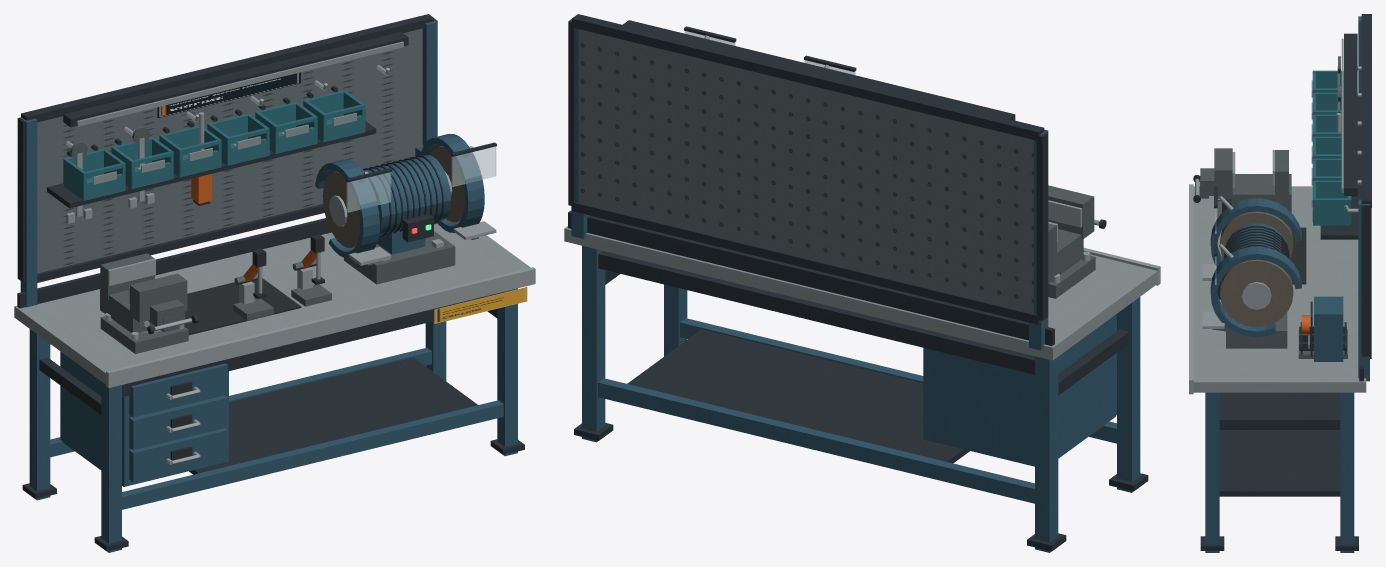
The model's file is PZ_Tool_Repair_Station.glb.
The picture shows the model from 3 angles, left to right: view 1: azimuth 30°, elevation 25°; view 2: azimuth 150°, elevation 25°; view 3: azimuth 270°, elevation 25°; orthographic projection. The views are drawn at different scales.
Visible parts, largest first — view 1: RENDER_Frame_Fixed_Pegboard_PerforatedBack_Pegboard, RENDER_Frame_Fixed_Worktop_BrushedSteel_AluminumTop, RENDER_Frame_Fixed_UnderBench_Shelf_CharcoalSteel, RENDER_Frame_Fixed_Worktop_FrontRolledEdge_ZincSteel, RENDER_Frame_Fixed_LowerStorageRail_F_PaintBlue, RENDER_Frame_Fixed_Pegboard_FaceBorderTop_CharcoalSteel, RENDER_Frame_Fixed_Worktop_RearToolLip_CharcoalSteel, RENDER_Frame_Fixed_RearOverhead_LEDStripHousing_CharcoalStee, RENDER_Grinder_Fixed_Grinder_Motor_CastCasing_PaintBlue, RENDER_Frame_Fixed_DrawerBank_LeftCabinetSide_PaintBlue, RENDER_Frame_Fixed_Leg_00_Tubular_PaintBlue, RENDER_Frame_Fixed_LongitudinalUnderTopRail_F_CharcoalSteel (+35 smaller); view 2: RENDER_Frame_Fixed_Pegboard_PerforatedBack_Pegboard, RENDER_Frame_Fixed_UnderBench_Shelf_CharcoalSteel, RENDER_Frame_Fixed_Worktop_BrushedSteel_AluminumTop, RENDER_Frame_Fixed_DrawerBank_BackSheet_PaintBlue, RENDER_Frame_Fixed_LowerStorageRail_R_PaintBlue, RENDER_Frame_Fixed_Worktop_RearToolLip_CharcoalSteel, RENDER_Frame_Fixed_LongitudinalUnderTopRail_R_CharcoalSteel, RENDER_Frame_Fixed_Pegboard_FaceBorderTop_CharcoalSteel, RENDER_Frame_Fixed_DrawerBank_LeftCabinetSide_PaintBlue, RENDER_Frame_Fixed_Pegboard_FaceBorderBottom_CharcoalSteel, RENDER_Frame_Fixed_Leg_01_Tubular_PaintBlue, RENDER_Frame_Fixed_Leg_11_Tubular_PaintBlue (+13 smaller); view 3: RENDER_Frame_Fixed_Worktop_BrushedSteel_AluminumTop, RENDER_Frame_Fixed_UnderBench_Shelf_CharcoalSteel, RENDER_Grinder_RightWheel_SPIN_X_PIVOT_AbrasiveStone_Waterti, RENDER_Frame_Fixed_Leg_10_Tubular_PaintBlue, RENDER_Frame_Fixed_Leg_11_Tubular_PaintBlue, RENDER_Grinder_Fixed_Grinder_Right_OuterWheelGuard_PaintBlue, RENDER_Frame_Fixed_RearOverhead_LEDStripHousing_CharcoalStee, RENDER_Frame_Fixed_Pegboard_FaceBorderTop_CharcoalSteel, RENDER_Frame_Fixed_Bench_Electrical_ISO_Cabinet_PaintBlue, RENDER_Frame_Fixed_CrossBrace_R_CharcoalSteel, RENDER_Frame_Fixed_Pegboard_TrimSide_1.055_CharcoalSteel, RENDER_Grinder_Fixed_Grinder_Left_OuterWheelGuard_PaintBlue (+26 smaller).
Boxes of the visible parts, x1,y1,x2,y2 form: RENDER_Frame_Fixed_Pegboard_PerforatedBack_Pegboard: (37,28,422,273); RENDER_Frame_Fixed_Worktop_BrushedSteel_AluminumTop: (14,223,530,384); RENDER_Frame_Fixed_UnderBench_Shelf_CharcoalSteel: (189,357,477,474); RENDER_Frame_Fixed_Worktop_FrontRolledEdge_ZincSteel: (106,267,535,388); RENDER_Frame_Fixed_LowerStorageRail_F_PaintBlue: (122,400,503,509); RENDER_Frame_Fixed_Pegboard_FaceBorderTop_CharcoalSteel: (21,14,433,122); RENDER_Frame_Fixed_Worktop_RearToolLip_CharcoalSteel: (17,218,331,308); RENDER_Frame_Fixed_RearOverhead_LEDStripHousing_CharcoalStee: (63,32,408,127); RENDER_Grinder_Fixed_Grinder_Motor_CastCasing_PaintBlue: (363,155,451,235); RENDER_Frame_Fixed_DrawerBank_LeftCabinetSide_PaintBlue: (62,353,129,486); RENDER_Frame_Fixed_Leg_00_Tubular_PaintBlue: (101,381,121,552); RENDER_Frame_Fixed_LongitudinalUnderTopRail_F_CharcoalSteel: (122,292,503,397); RENDER_Frame_Fixed_Pegboard_PerforatedBack_Pegboard: (578,29,1033,313); RENDER_Frame_Fixed_UnderBench_Shelf_CharcoalSteel: (627,329,969,463); RENDER_Frame_Fixed_Worktop_BrushedSteel_AluminumTop: (564,226,1157,360); RENDER_Frame_Fixed_DrawerBank_BackSheet_PaintBlue: (923,348,1034,466); RENDER_Frame_Fixed_LowerStorageRail_R_PaintBlue: (598,378,1034,503); RENDER_Frame_Fixed_Worktop_RearToolLip_CharcoalSteel: (568,210,1054,345); RENDER_Frame_Fixed_LongitudinalUnderTopRail_R_CharcoalSteel: (598,251,1034,374); RENDER_Frame_Fixed_Pegboard_FaceBorderTop_CharcoalSteel: (572,14,1044,140); RENDER_Frame_Fixed_DrawerBank_LeftCabinetSide_PaintBlue: (1058,314,1116,457); RENDER_Frame_Fixed_Pegboard_FaceBorderBottom_CharcoalSteel: (572,202,1039,324); RENDER_Frame_Fixed_Leg_01_Tubular_PaintBlue: (1035,356,1058,552); RENDER_Frame_Fixed_Leg_11_Tubular_PaintBlue: (582,245,605,442); RENDER_Frame_Fixed_Worktop_BrushedSteel_AluminumTop: (1193,186,1366,392); RENDER_Frame_Fixed_UnderBench_Shelf_CharcoalSteel: (1219,392,1340,496); RENDER_Grinder_RightWheel_SPIN_X_PIVOT_AbrasiveStone_Waterti: (1220,259,1293,327); RENDER_Frame_Fixed_Leg_10_Tubular_PaintBlue: (1205,392,1219,552); RENDER_Frame_Fixed_Leg_11_Tubular_PaintBlue: (1340,392,1354,552); RENDER_Grinder_Fixed_Grinder_Right_OuterWheelGuard_PaintBlue: (1210,246,1301,336); RENDER_Frame_Fixed_RearOverhead_LEDStripHousing_CharcoalStee: (1344,33,1357,195); RENDER_Frame_Fixed_Pegboard_FaceBorderTop_CharcoalSteel: (1361,14,1371,207); RENDER_Frame_Fixed_Bench_Electrical_ISO_Cabinet_PaintBlue: (1314,296,1343,361); RENDER_Frame_Fixed_CrossBrace_R_CharcoalSteel: (1219,416,1340,429); RENDER_Frame_Fixed_Pegboard_TrimSide_1.055_CharcoalSteel: (1361,204,1371,356); RENDER_Grinder_Fixed_Grinder_Left_OuterWheelGuard_PaintBlue: (1210,198,1301,267).
Bounding box in the file's own units: 2.2 × 1.84 × 0.868.
Materials: 15 (12 with a texture image).
